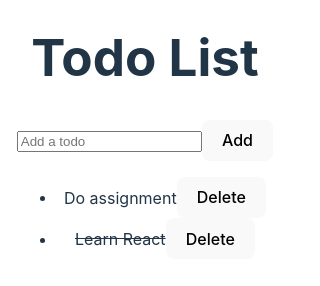
Test case: TodoList Component › adds a new todo
The width and height of the screenshot is (320, 286).
Type "New Todo" into the field with placeholder "Add a todo" at coordinates (109, 142), box [17,131,202,152]
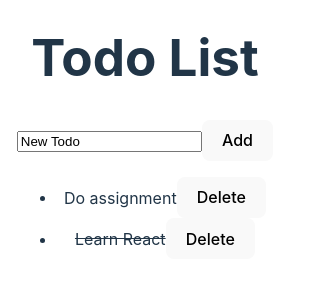
Click the button "Add" at coordinates (238, 140), box [202,120,273,161]
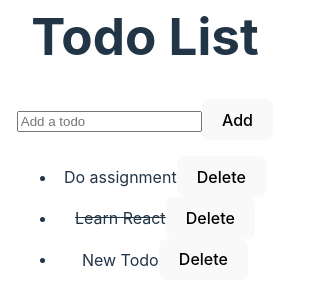
Check: the list item "New Todo" is shown, box [82,249,159,269]
